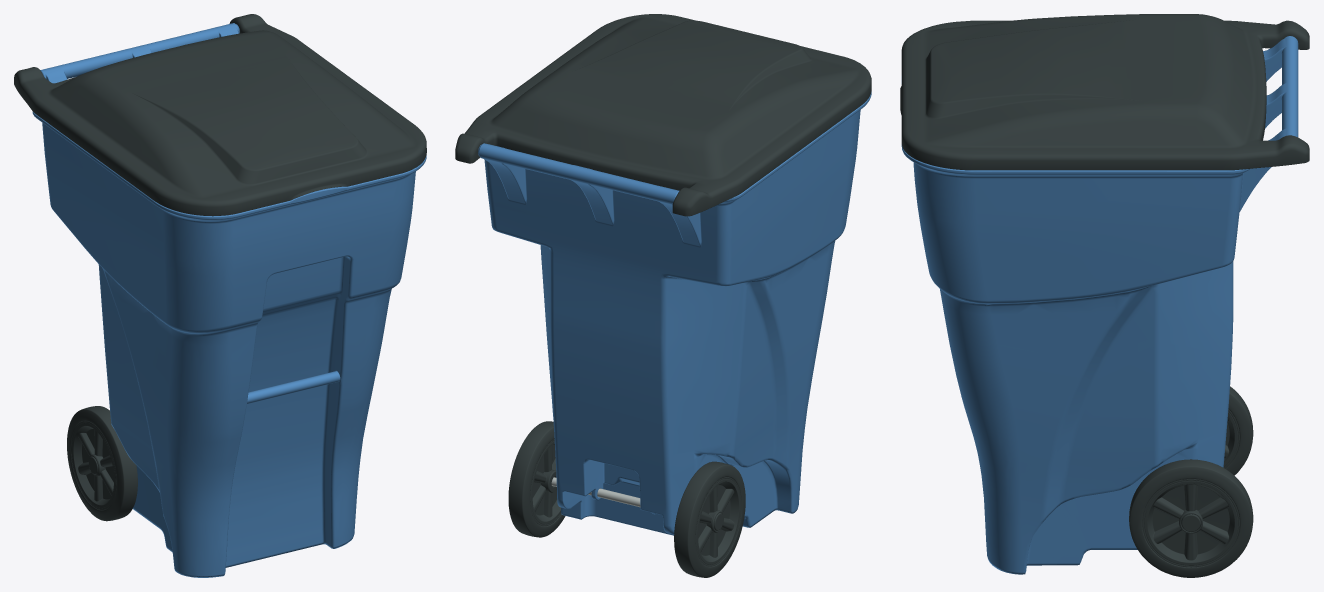
File: container_recycle_blue_wheeled_a02.glb
The picture shows the model from 3 angles, left to right: view 1: azimuth 30°, elevation 25°; view 2: azimuth 150°, elevation 25°; view 3: azimuth 270°, elevation 25°; orthographic projection. The views are drawn at different scales.
Size of the model in its own units: 0.6876 by 1.1 by 0.865.
